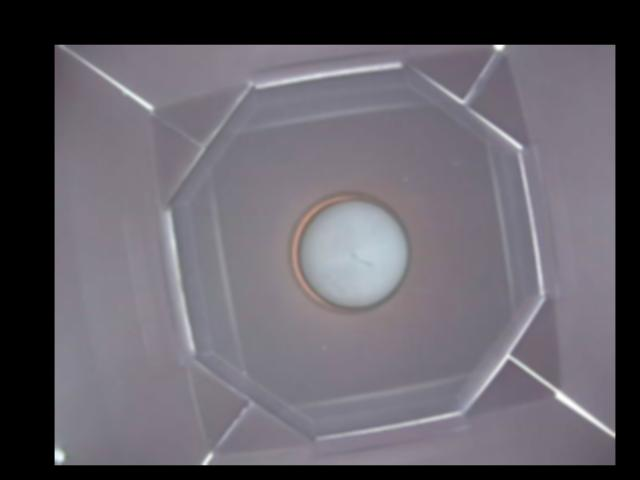Cup: (288, 189, 411, 311)
